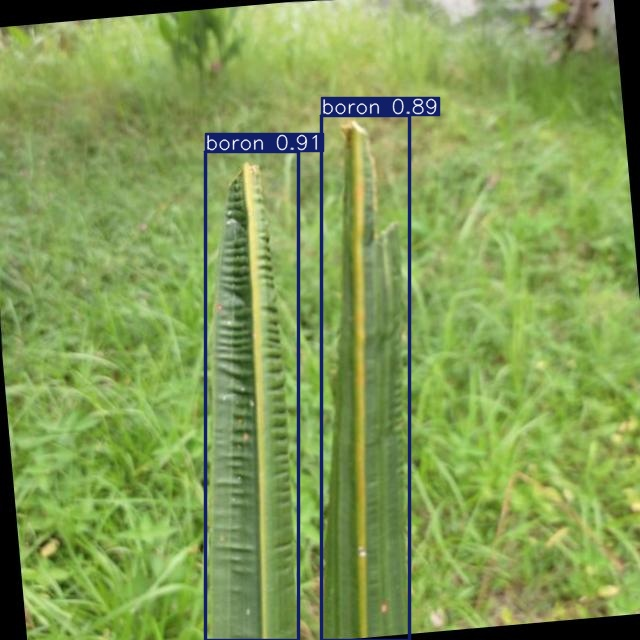nitrogen: (322, 116, 410, 640), (206, 152, 299, 640)
